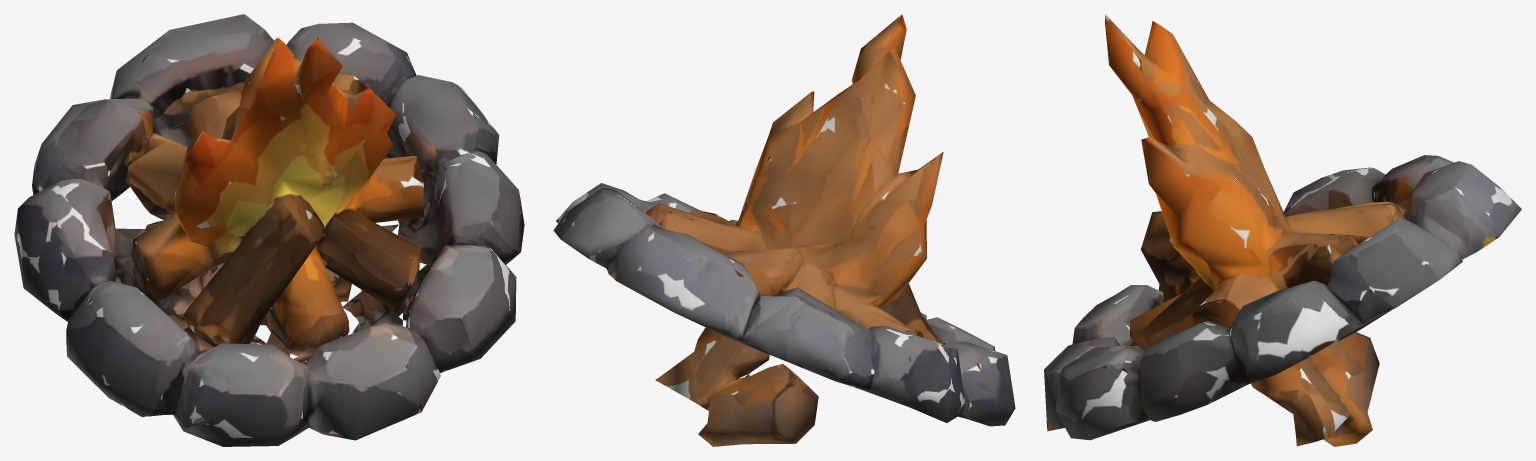
File: dec_campfire.glb
3 views of the same model, side by side, from view 1: azimuth 30°, elevation 25°; view 2: azimuth 150°, elevation 25°; view 3: azimuth 270°, elevation 25° (orthographic). The views are drawn at different scales.
Parts seen in each view (by area): view 1: BakeLow; view 2: BakeLow; view 3: BakeLow.
Part boxes in pixels (x1,y1,x2,y2): BakeLow: (14,14,524,446); BakeLow: (553,14,1015,446); BakeLow: (1044,14,1521,446).
Bounding box in the file's own units: 0.8834 × 0.7486 × 0.8177.
1 material, 1 textured.
